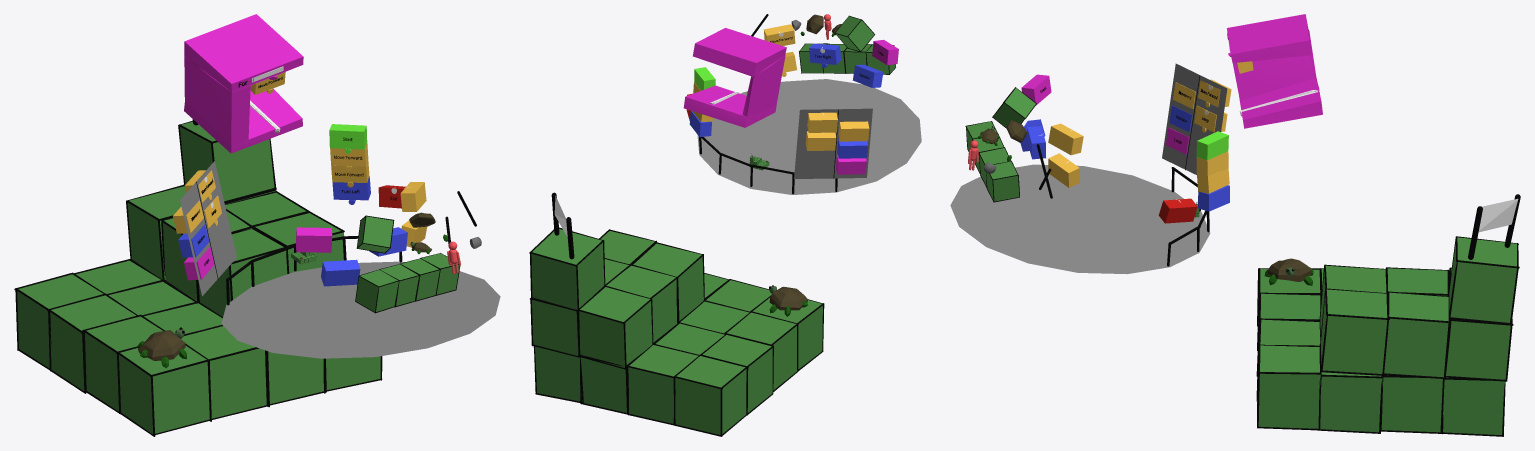
File: Map.fbx
3 views of the same model, side by side, from view 1: azimuth 30°, elevation 25°; view 2: azimuth 150°, elevation 25°; view 3: azimuth 270°, elevation 25° (orthographic). The views are drawn at different scales.
Visible parts, largest first — view 1: s.0513, s.0621, p.0391, p.0386, p.0475, p.0430, p.0450, p.0410, p.0480, p.0470, p.0568, p.0397 (+28 smaller); view 2: s.0513, s.0621, p.0470, p.0450, p.0475, p.0445, p.0568, p.0480, p.0430, p.0490, p.0410, p.0465 (+24 smaller); view 3: s.0513, s.0621, p.0485, p.0382, p.0475, p.0495, p.0421, p.0465, p.0461, p.0441, p.0568, p.0480 (+16 smaller).
Boxes of the visible parts, x1,y1,x2,y2 form: s.0513: (221, 261, 500, 358); s.0621: (184, 14, 303, 153); p.0391: (119, 345, 209, 434); p.0386: (181, 326, 266, 418); p.0475: (180, 121, 274, 201); p.0430: (50, 295, 135, 390); p.0450: (17, 274, 103, 368); p.0410: (85, 316, 162, 411); p.0480: (198, 229, 287, 316); p.0470: (127, 186, 186, 279); p.0568: (180, 161, 236, 296); p.0397: (268, 351, 323, 403); s.0513: (697, 79, 921, 194); s.0621: (683, 28, 786, 127); p.0470: (579, 287, 652, 367); p.0450: (675, 356, 746, 434); p.0475: (531, 229, 604, 309); p.0445: (628, 345, 698, 423); p.0568: (794, 108, 872, 178); p.0480: (633, 243, 703, 320); p.0430: (702, 335, 772, 412); p.0490: (606, 265, 676, 342); p.0410: (727, 312, 797, 390); p.0465: (532, 300, 578, 355); s.0513: (950, 164, 1210, 274); s.0621: (1227, 14, 1322, 128); p.0485: (1321, 289, 1387, 373); p.0382: (1257, 345, 1320, 428); p.0475: (1449, 237, 1516, 322); p.0495: (1384, 292, 1448, 377); p.0421: (1320, 372, 1382, 432); p.0465: (1446, 321, 1510, 379); p.0461: (1443, 377, 1505, 434); p.0441: (1381, 375, 1442, 432); p.0568: (1162, 63, 1227, 174); p.0480: (1320, 265, 1386, 334).
Size of what is drawn, in the model's own units: 144 by 207 by 302.
